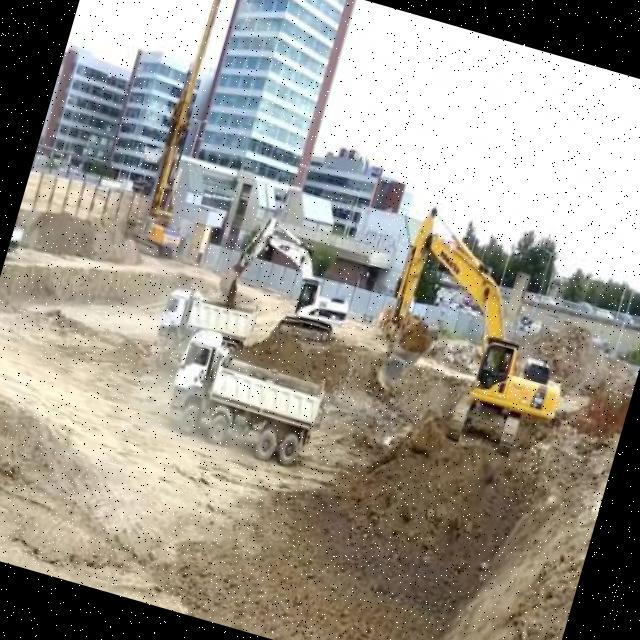Dump Truck: (152, 318, 338, 477), (152, 270, 267, 368)
Excavator: (348, 190, 608, 479), (210, 204, 372, 352)
